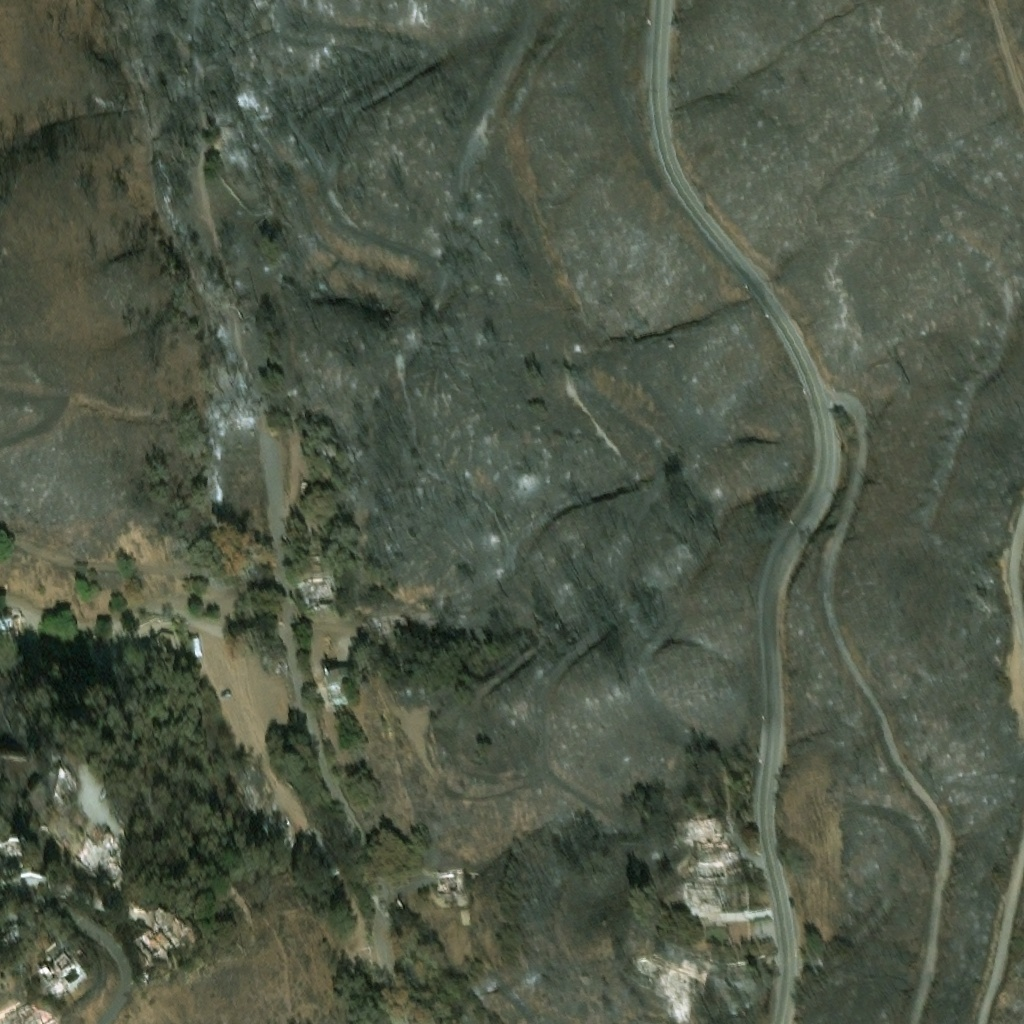3 destroyed: (126, 896, 193, 961), (126, 604, 182, 661), (70, 826, 125, 881), (43, 945, 87, 1002), (656, 956, 707, 1002), (250, 795, 290, 838), (689, 848, 741, 878), (320, 664, 361, 702), (684, 812, 730, 844), (232, 760, 268, 794), (303, 573, 333, 604), (18, 1003, 62, 1023), (682, 880, 717, 905), (0, 837, 26, 869), (49, 770, 75, 802), (0, 923, 23, 950), (433, 860, 457, 885), (385, 611, 408, 628), (299, 819, 317, 840), (757, 933, 772, 942), (192, 635, 200, 651), (298, 477, 306, 488), (370, 959, 376, 970)
